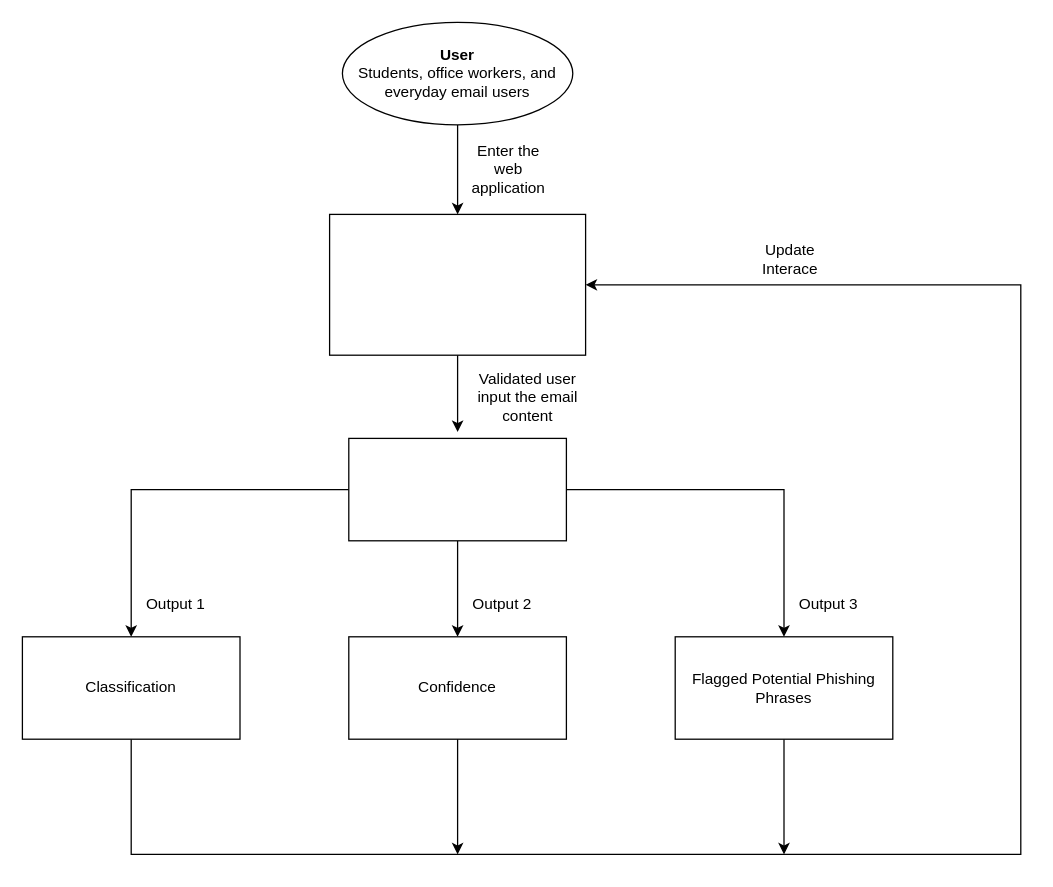
This 1053x887 diagram has some shape labels left out. Each missing label, with the centre of its shape:
AI Inference Engine: the point at 457,489
Web Application: the point at 457,284
